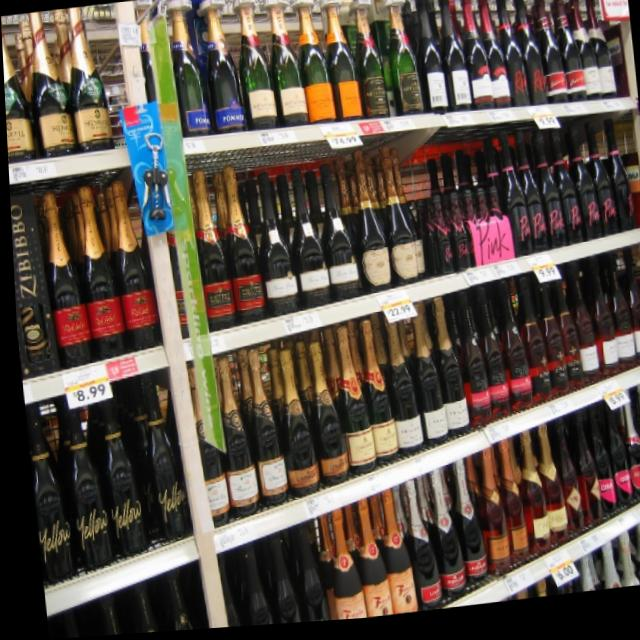q202: (35, 180, 89, 361), (68, 178, 124, 352), (104, 168, 157, 349)
